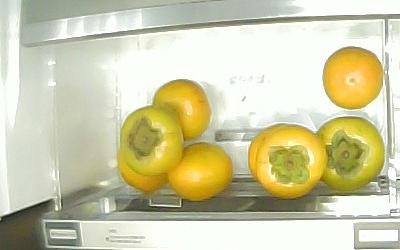persimmon: (255, 123, 327, 199), (315, 115, 384, 192), (119, 106, 183, 175), (322, 46, 383, 109), (168, 141, 232, 201), (152, 79, 210, 140), (116, 150, 169, 196)
